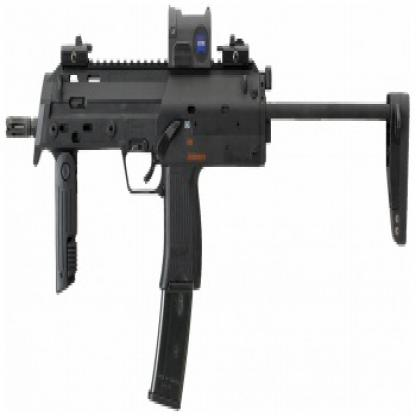Guns: (4, 2, 411, 414)
